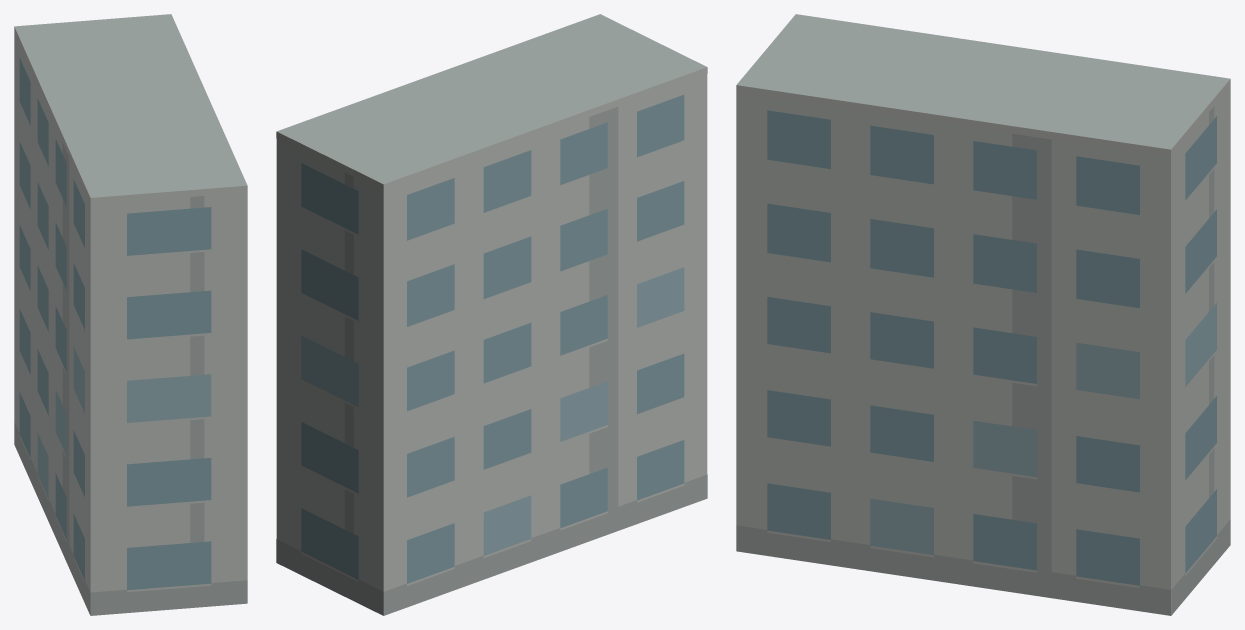
Rendered from survey-upis-32899737.glb.
3 renders of one model, left to right at view 1: azimuth 30°, elevation 25°; view 2: azimuth 150°, elevation 25°; view 3: azimuth 270°, elevation 25°, orthographic. The views are drawn at different scales.
Parts seen in each view (by area): view 1: survey-upis-32899737.tmp; view 2: survey-upis-32899737.tmp; view 3: survey-upis-32899737.tmp.
Part boxes in pixels (box(x1,y1,x2,y2)): survey-upis-32899737.tmp: box(14, 14, 247, 615); survey-upis-32899737.tmp: box(276, 14, 707, 615); survey-upis-32899737.tmp: box(736, 14, 1230, 615).
Size of the model in its own units: 9.24 by 14.8 by 14.23.
